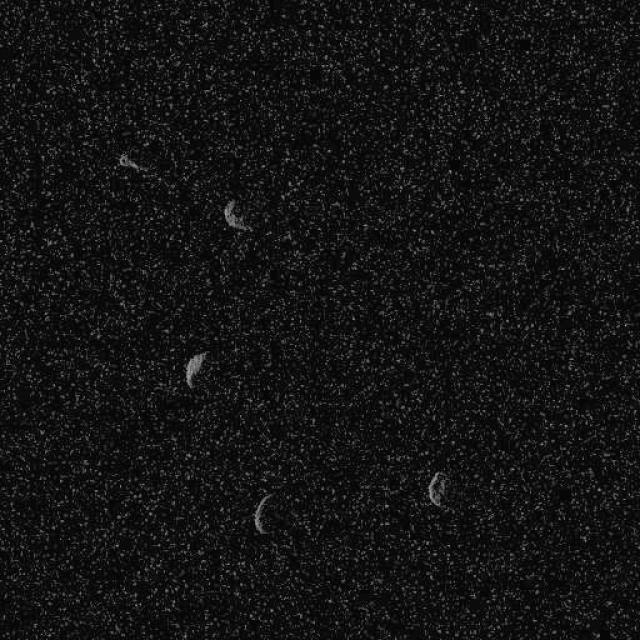D2: (425, 470, 450, 511), (221, 198, 251, 232), (182, 350, 208, 389), (252, 493, 276, 535), (116, 151, 145, 175)
